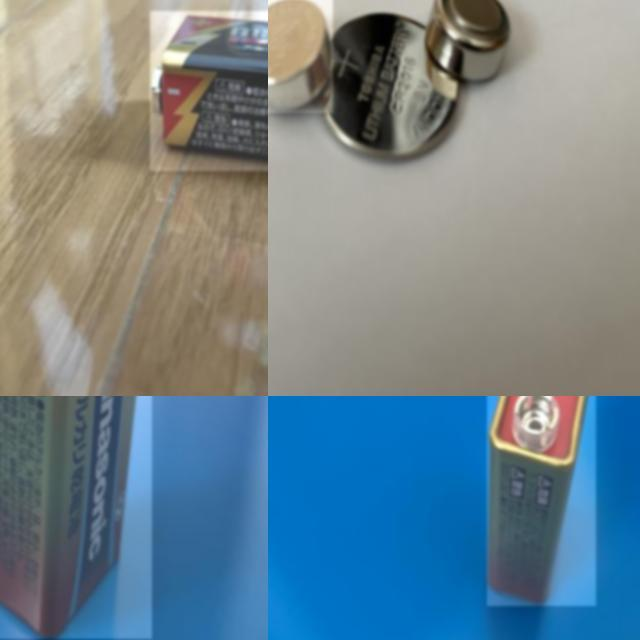9V: (0, 396, 152, 639), (487, 396, 596, 606), (150, 11, 268, 171)
